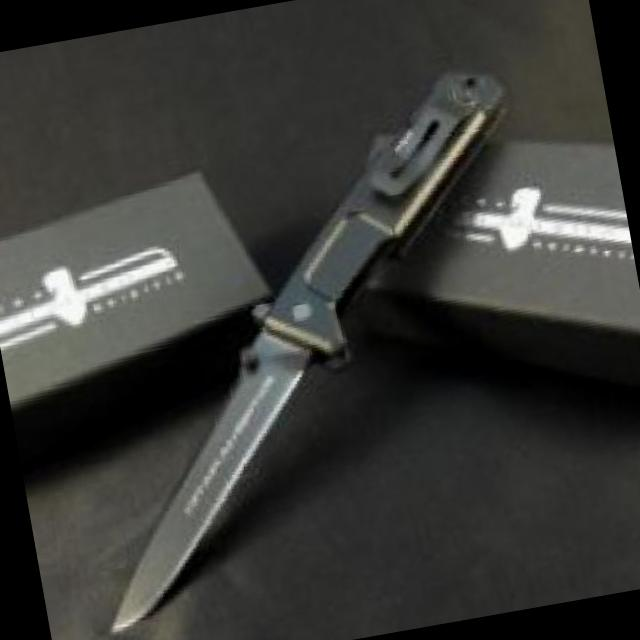knife: (58, 308, 364, 637)
